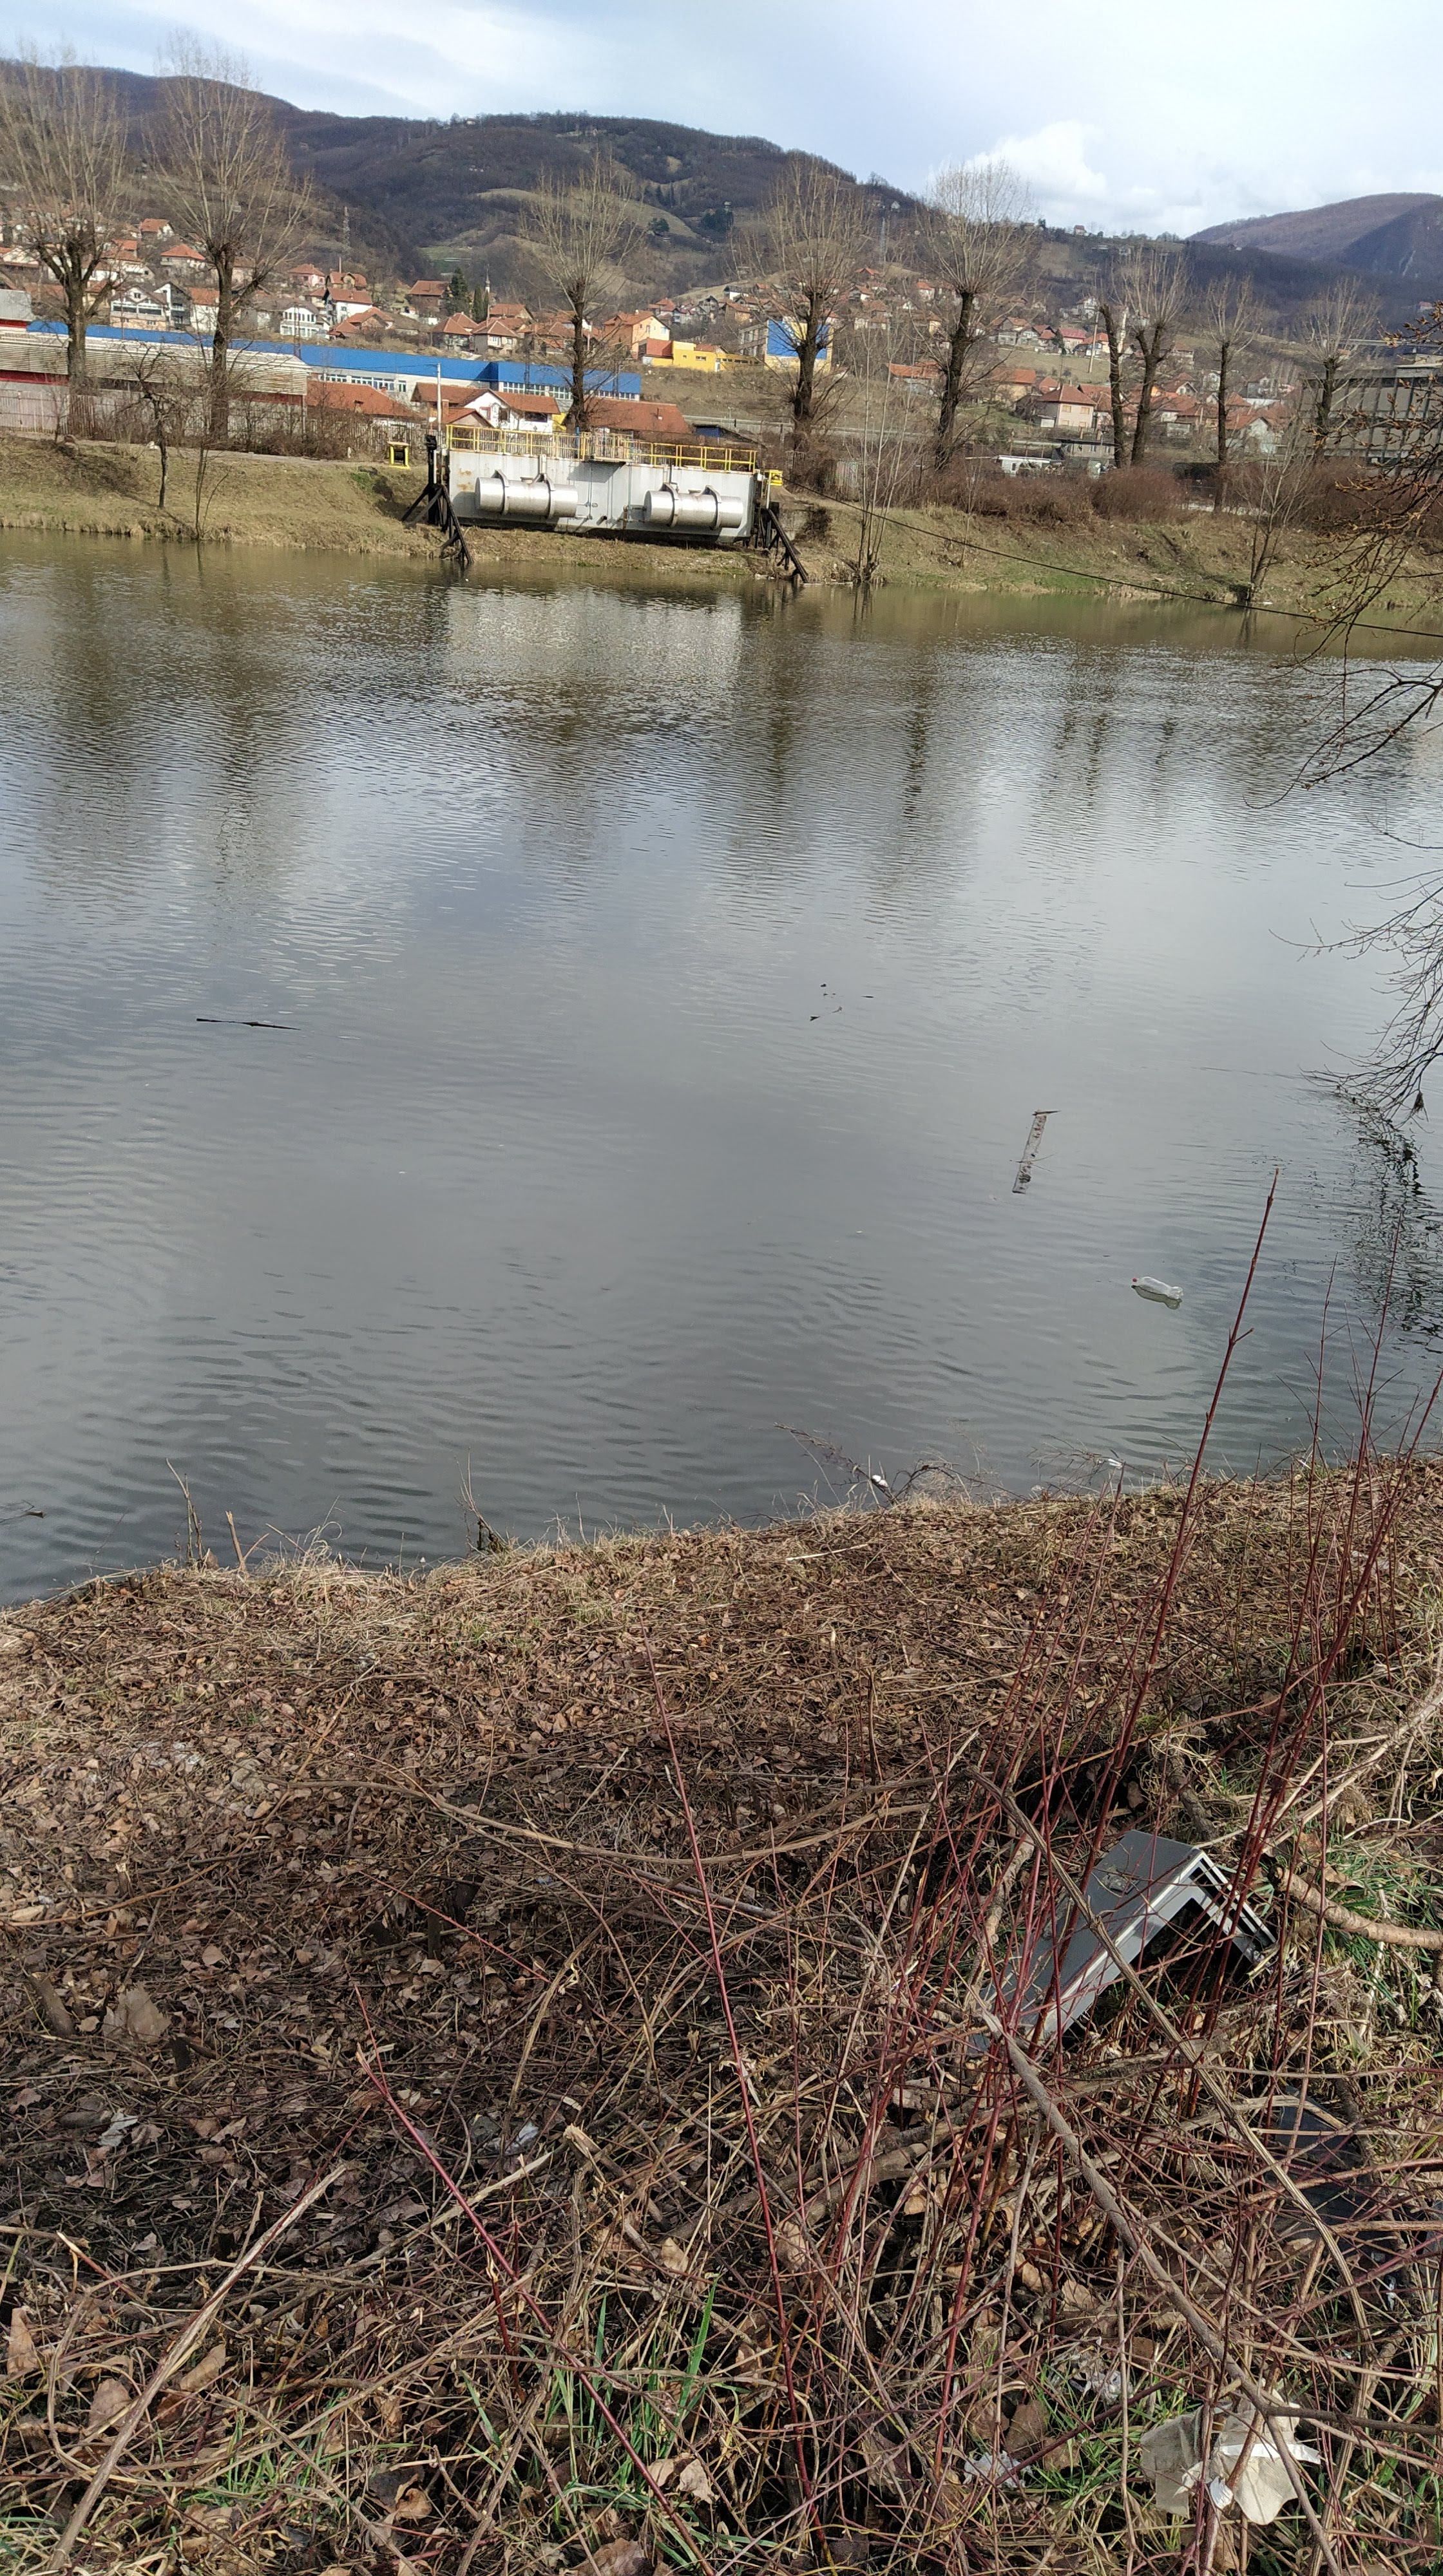Plastic Bottle: (1133, 1276, 1183, 1300)
